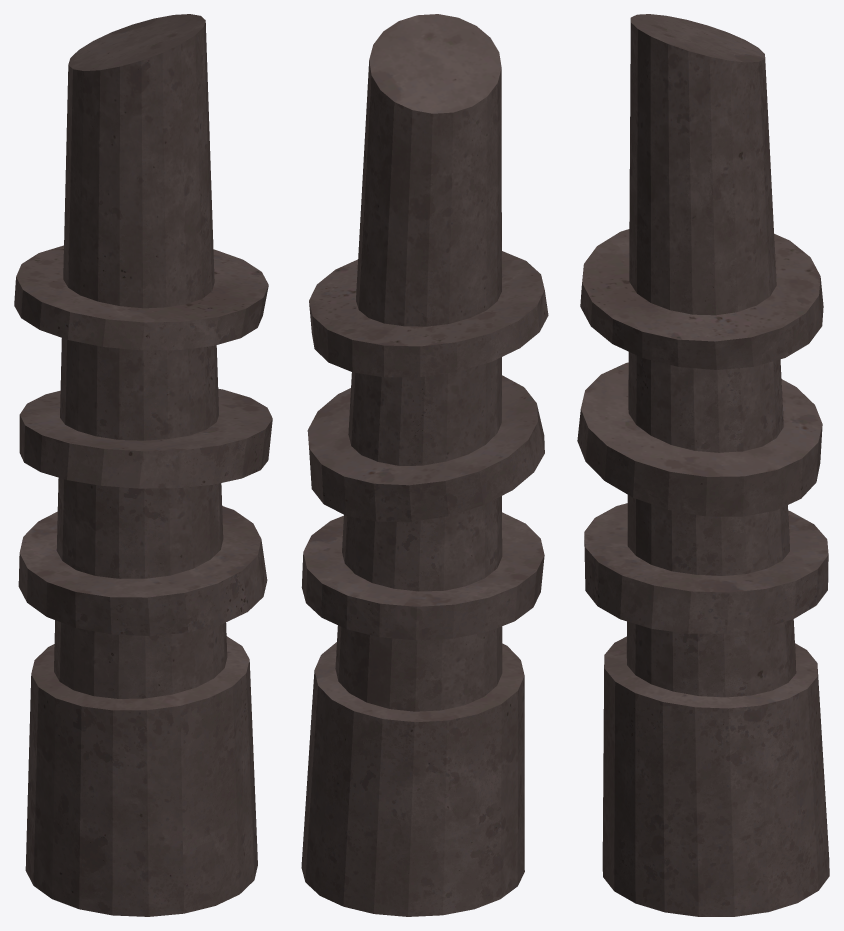
File: Pylon01.fbx
3 views of the same model, side by side, from view 1: azimuth 30°, elevation 25°; view 2: azimuth 150°, elevation 25°; view 3: azimuth 270°, elevation 25° (orthographic). The views are drawn at different scales.
Visible parts, largest first — view 1: SM_ENV_STRUCT_ScrapYard_Pylon_01.mo; view 2: SM_ENV_STRUCT_ScrapYard_Pylon_01.mo; view 3: SM_ENV_STRUCT_ScrapYard_Pylon_01.mo.
Part boxes in pixels (box(x1,y1,x2,y2)): SM_ENV_STRUCT_ScrapYard_Pylon_01.mo: box(14, 14, 272, 916); SM_ENV_STRUCT_ScrapYard_Pylon_01.mo: box(301, 14, 548, 916); SM_ENV_STRUCT_ScrapYard_Pylon_01.mo: box(577, 14, 829, 916).
Bounding box in the file's own units: 326 × 1209 × 327.
1 material, 1 textured.
